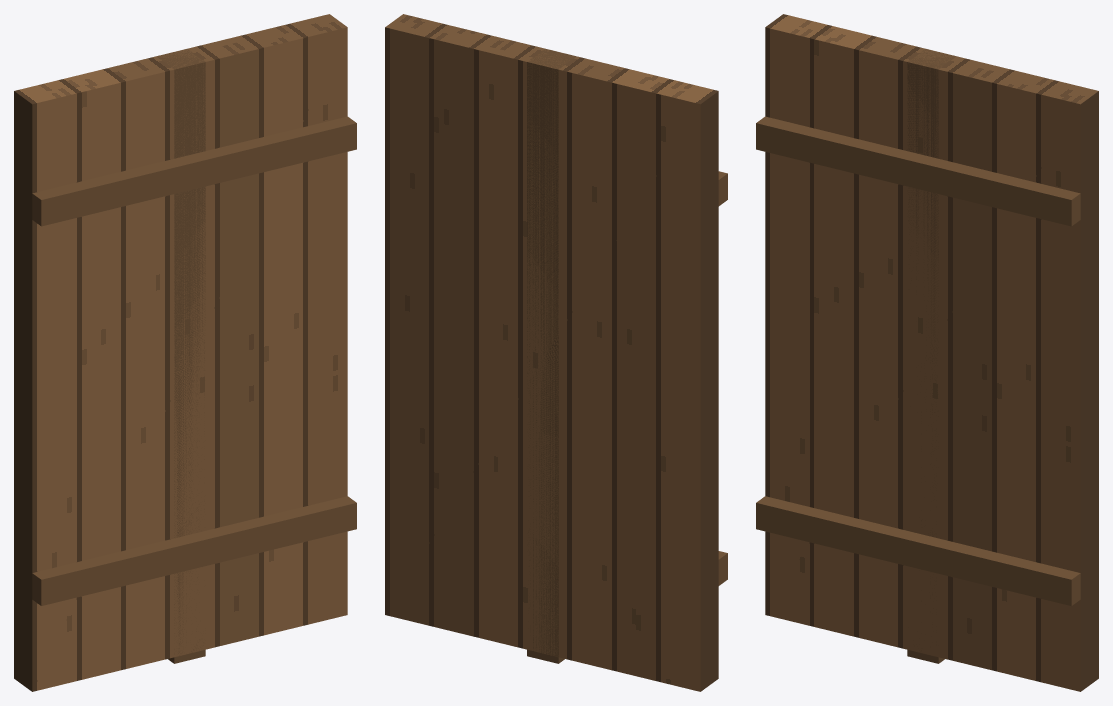
The model's file is t_privacy_fence.glb.
The picture shows the model from 3 angles, left to right: view 1: azimuth 30°, elevation 25°; view 2: azimuth 150°, elevation 25°; view 3: azimuth 330°, elevation 25°; orthographic projection.
Visible parts, largest first — view 1: block_boards, block_rail1.45, block_rail0.3, block_post; view 2: block_boards, block_post; view 3: block_boards, block_rail1.45, block_rail0.3, block_post.
Part boxes in pixels (x1,y1,x2,y2): block_boards: (14, 14, 347, 691); block_rail1.45: (32, 116, 356, 226); block_rail0.3: (32, 496, 356, 605); block_post: (156, 48, 205, 663); block_boards: (385, 14, 718, 691); block_post: (527, 48, 576, 663); block_boards: (765, 14, 1098, 691); block_rail1.45: (756, 116, 1080, 226); block_rail0.3: (756, 496, 1080, 605); block_post: (907, 48, 956, 663).
Size of the model in its own units: 1 by 1.8 by 0.15.
Materials: 1 (1 with a texture image).
